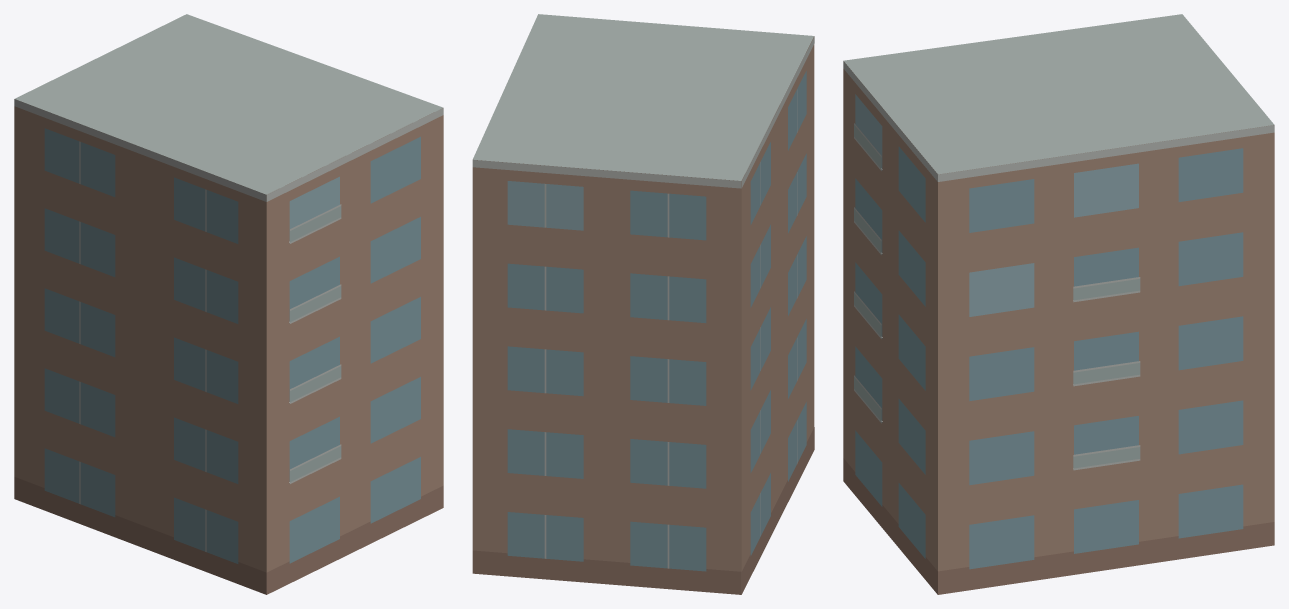
Rendered from survey-upis-32956024.glb.
The picture shows the model from 3 angles, left to right: view 1: azimuth 30°, elevation 25°; view 2: azimuth 150°, elevation 25°; view 3: azimuth 270°, elevation 25°; orthographic projection. The views are drawn at different scales.
Parts seen in each view (by area): view 1: survey-upis-32956024.tmp; view 2: survey-upis-32956024.tmp; view 3: survey-upis-32956024.tmp.
Boxes of the visible parts, x1,y1,x2,y2 form: survey-upis-32956024.tmp: [14, 14, 443, 594]; survey-upis-32956024.tmp: [472, 14, 814, 594]; survey-upis-32956024.tmp: [843, 14, 1274, 594].
Size of the model in its own units: 10.98 by 13.4 by 12.47.
